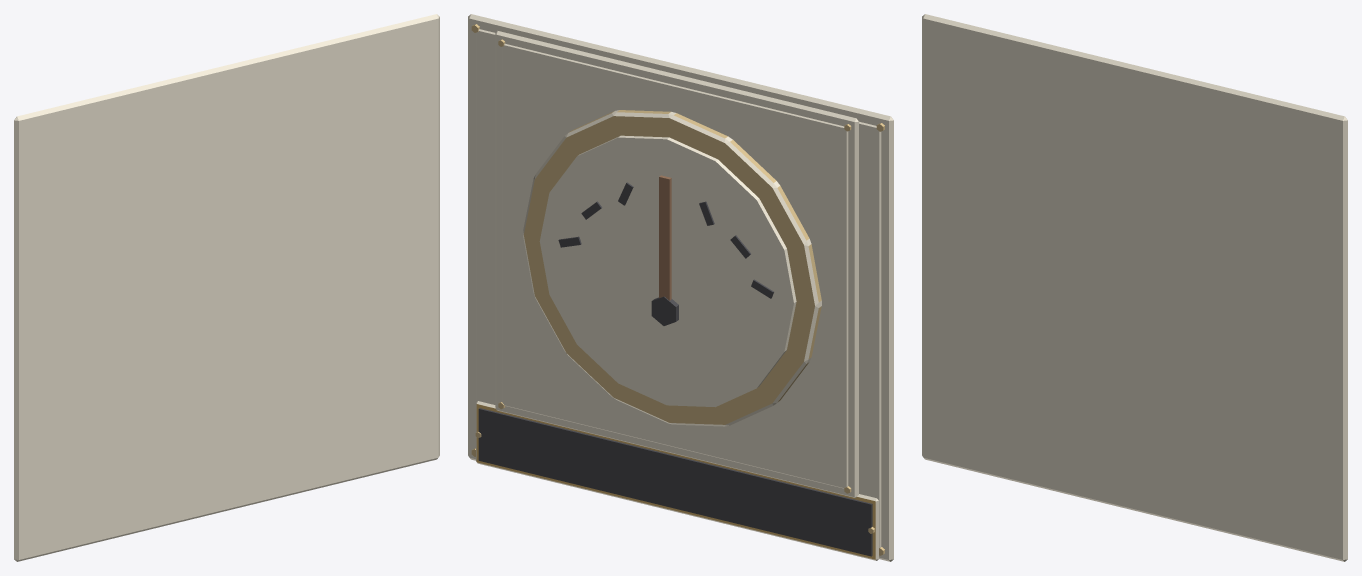
File: Disp_Gauge_2x2.fbx
3 views of the same model, side by side, from view 1: azimuth 30°, elevation 25°; view 2: azimuth 150°, elevation 25°; view 3: azimuth 330°, elevation 25° (orthographic).
Parts seen in each view (by area): view 1: Disp_Gauge_2x2; view 2: Disp_Gauge_2x2, Needle.001; view 3: Disp_Gauge_2x2.
Boxes of the visible parts, x1,y1,x2,y2 form: Disp_Gauge_2x2: [14, 14, 439, 561]; Disp_Gauge_2x2: [468, 14, 893, 561]; Needle.001: [651, 175, 678, 325]; Disp_Gauge_2x2: [922, 14, 1347, 561].
Size of the model in its own units: 2.06 by 2.06 by 0.1589.
